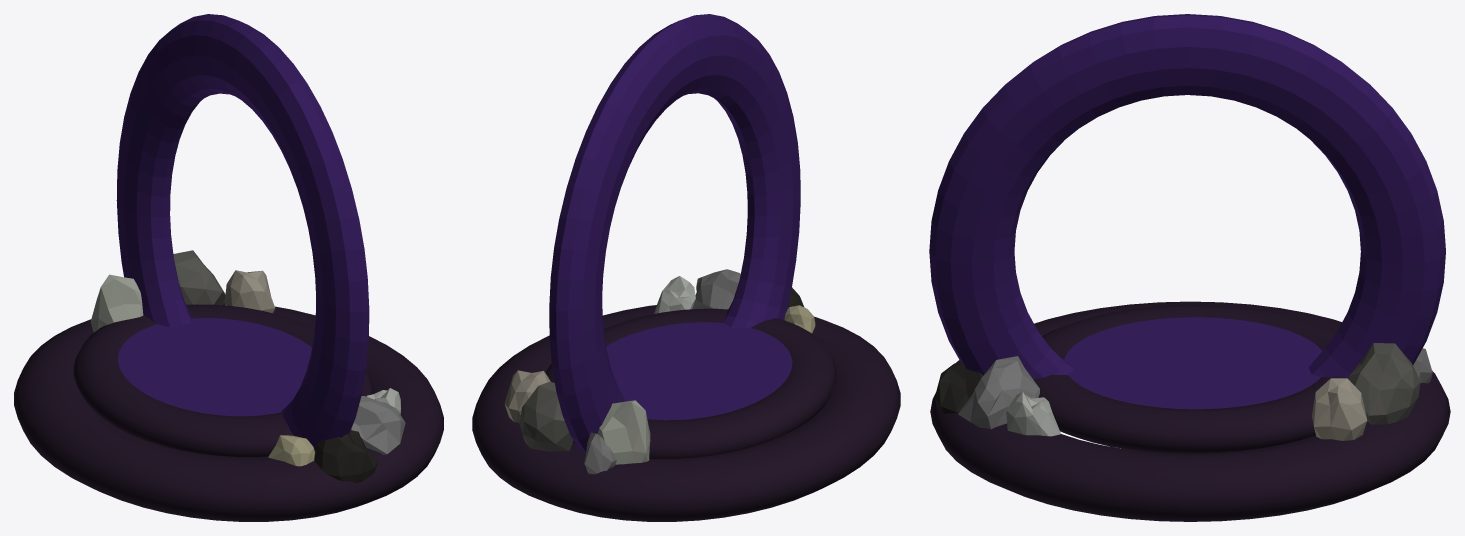
Rendered from brecha_temporal.fbx.
The picture shows the model from 3 angles, left to right: view 1: azimuth 30°, elevation 25°; view 2: azimuth 150°, elevation 25°; view 3: azimuth 270°, elevation 25°; orthographic projection. The views are drawn at different scales.
Parts seen in each view (by area): view 1: Brecha, Esfera geodésica.006, Esfera geodésica, Esfera geodésica.008, Esfera geodésica.002, Esfera geodésica.001, Esfera geodésica.009; view 2: Brecha, Esfera geodésica.002, Esfera geodésica.008, Esfera geodésica, Esfera geodésica.001, Esfera geodésica.004, Esfera geodésica.003, Esfera geodésica.009; view 3: Brecha, Esfera geodésica.002, Esfera geodésica, Esfera geodésica.001, Esfera geodésica.004, Esfera geodésica.006.
Boxes of the visible parts, x1,y1,x2,y2 form: Brecha: (14,14,443,521); Esfera geodésica.006: (314,430,377,483); Esfera geodésica: (351,396,405,454); Esfera geodésica.008: (90,274,143,332); Esfera geodésica.002: (173,250,225,305); Esfera geodésica.001: (224,270,275,313); Esfera geodésica.009: (268,435,315,466); Brecha: (472,14,900,521); Esfera geodésica.002: (519,382,573,451); Esfera geodésica.008: (597,400,650,464); Esfera geodésica: (692,269,740,309); Esfera geodésica.001: (504,370,550,422); Esfera geodésica.004: (654,276,695,313); Esfera geodésica.003: (584,432,616,474); Esfera geodésica.009: (784,305,815,333); Brecha: (929,14,1450,521); Esfera geodésica.002: (1348,343,1420,424); Esfera geodésica: (958,356,1039,429); Esfera geodésica.001: (1312,378,1367,440); Esfera geodésica.004: (1006,391,1060,436); Esfera geodésica.006: (934,361,982,413).
Bounding box in the file's own units: 116 × 125 × 135.
